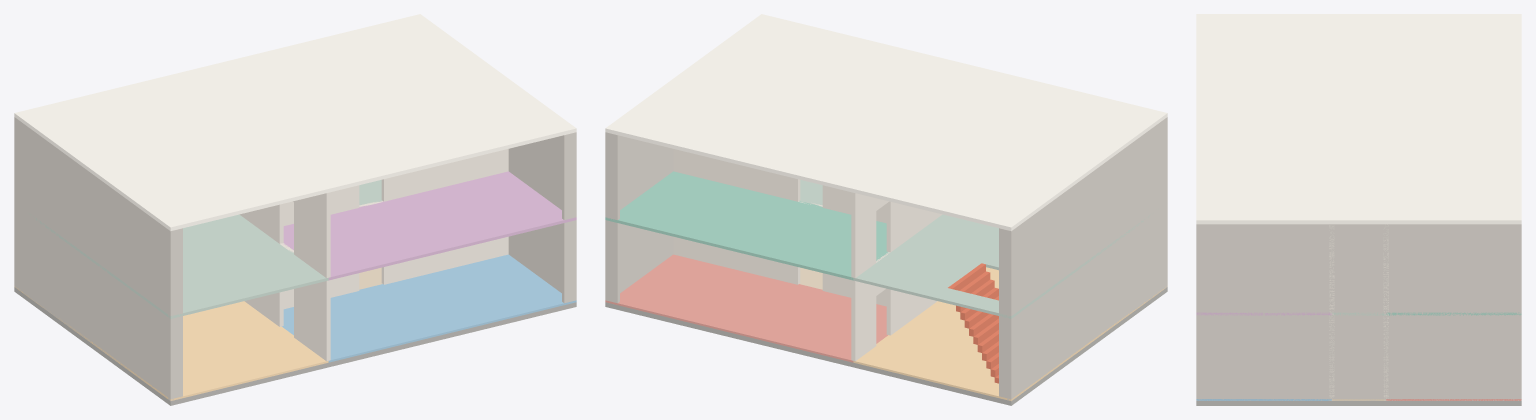
File: building.glb
3 views of the same model, side by side, from view 1: azimuth 30°, elevation 25°; view 2: azimuth 150°, elevation 25°; view 3: azimuth 270°, elevation 25° (orthographic). The views are drawn at different scales.
Visible parts, largest first — view 1: SyntheticIndoor; view 2: SyntheticIndoor; view 3: SyntheticIndoor.
Part boxes in pixels (x1,y1,x2,y2): SyntheticIndoor: (14, 14, 576, 405); SyntheticIndoor: (605, 14, 1167, 405); SyntheticIndoor: (1196, 14, 1521, 405).
Bounding box in the file's own units: 18 × 7.56 × 12.
